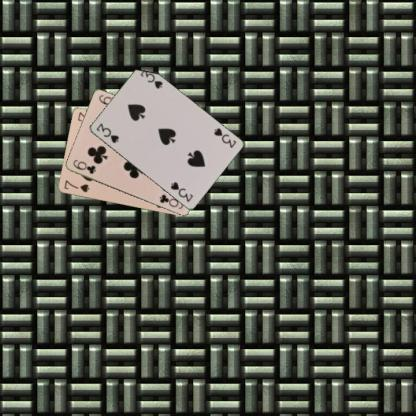3s: (210, 124, 238, 150), (93, 121, 120, 144)
6c: (70, 157, 98, 175)
7s: (62, 178, 90, 194)
